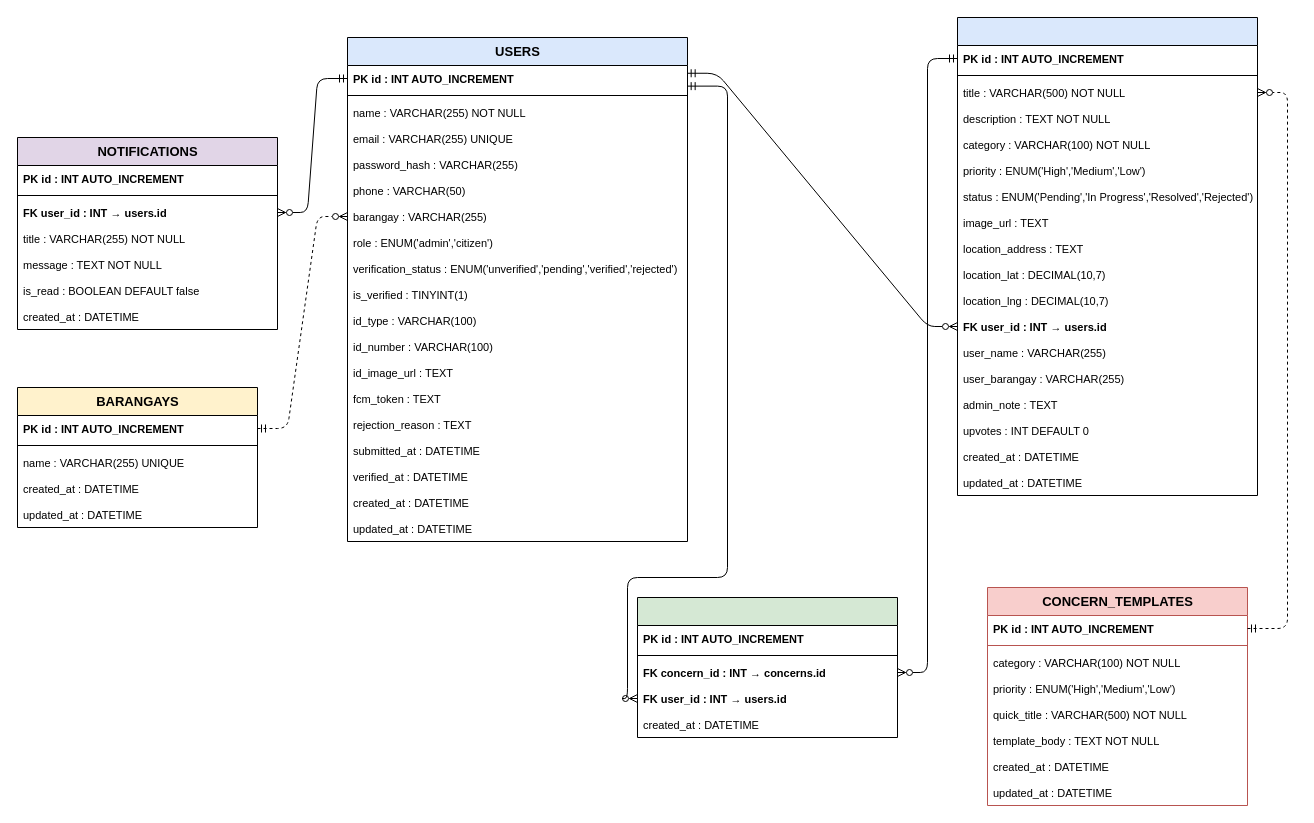
Some shapes in this 1314 by 823 pixel diagram are drawn without their labels. The shapes that lost their labels are listed below. From the top down, each one's box as (x1, y1, x2, y2) in pixels, then its label:
(956, 16, 1258, 496): CONCERNS
(636, 596, 898, 738): CONCERN_UPVOTES
